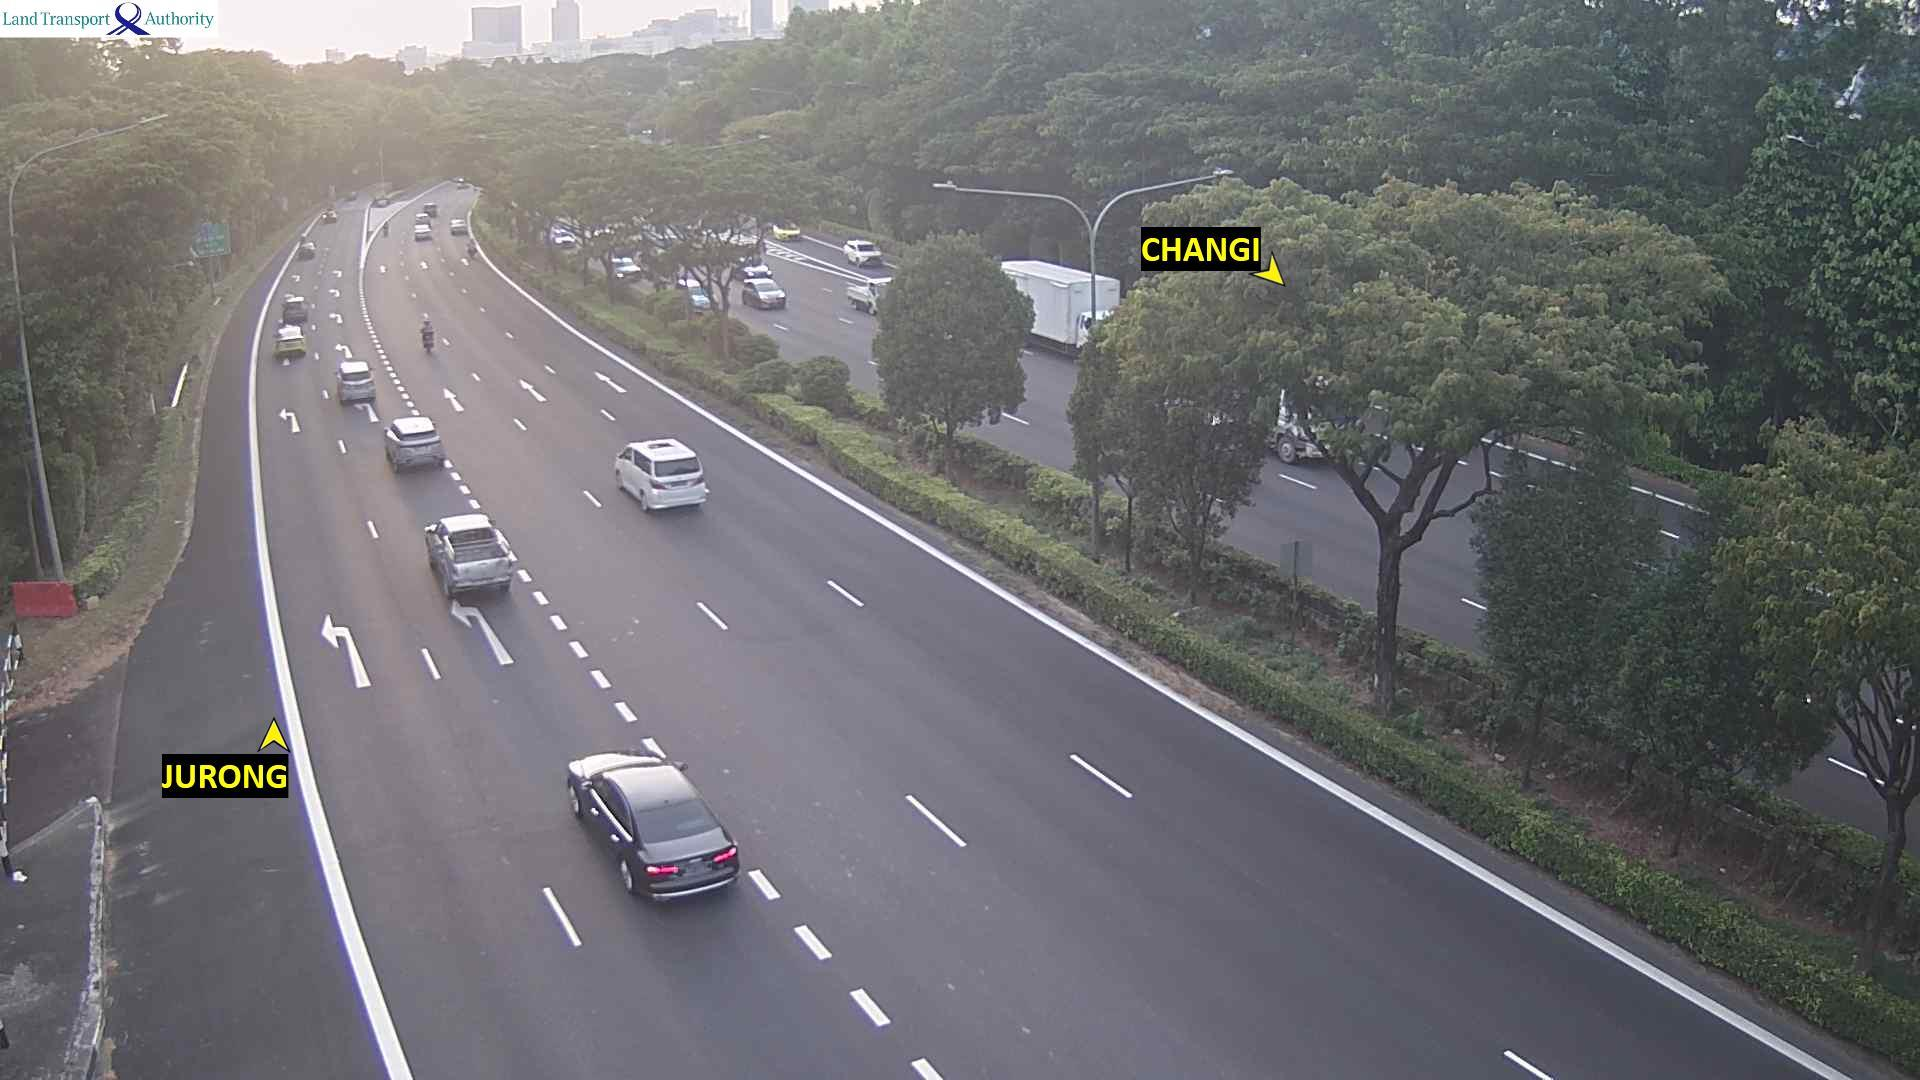incoming: (750, 280, 787, 311), (608, 256, 646, 284), (853, 240, 885, 270), (738, 256, 775, 281), (773, 218, 803, 247)
